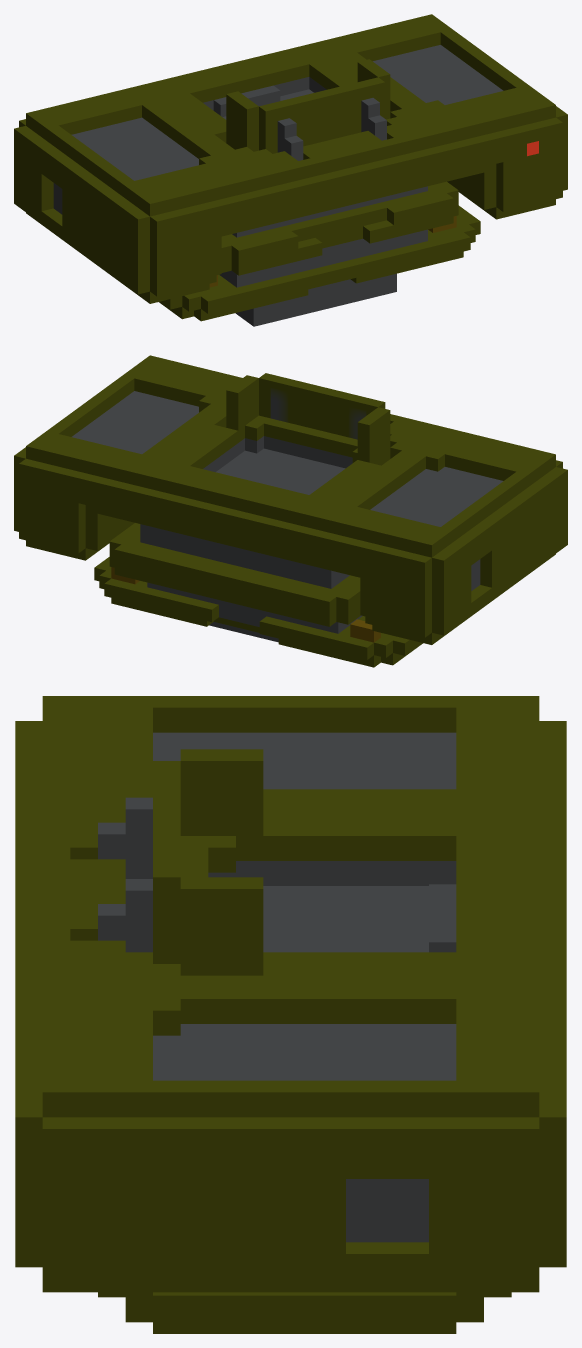
Rendered from Body12.fbx.
3 views of the same model, one above another, from view 1: azimuth 30°, elevation 25°; view 2: azimuth 150°, elevation 25°; view 3: azimuth 270°, elevation 25° (orthographic). The views are drawn at different scales.
Visible parts, largest first — view 1: Body12; view 2: Body12; view 3: Body12.
Boxes of the visible parts, x1,y1,x2,y2 form: Body12: (14, 14, 567, 326); Body12: (14, 355, 567, 667); Body12: (15, 696, 566, 1333).
Size of the model in its own units: 180 by 85 by 100.
